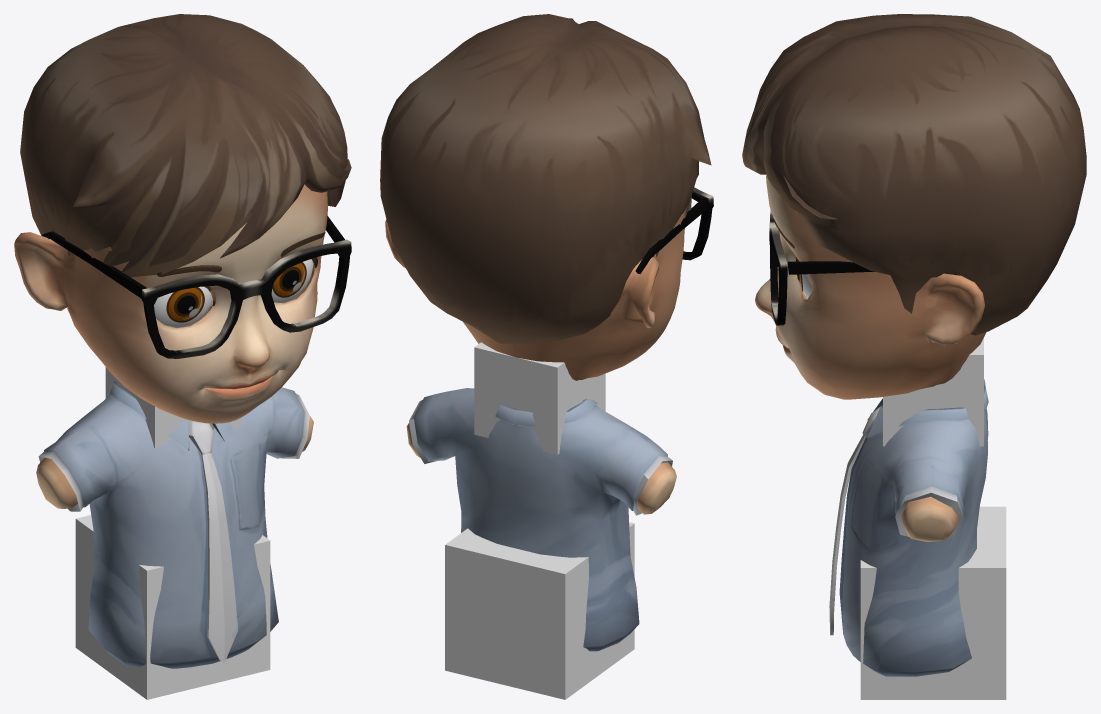
Rendered from Tman.FBX.
3 renders of one model, left to right at view 1: azimuth 30°, elevation 25°; view 2: azimuth 150°, elevation 25°; view 3: azimuth 270°, elevation 25°, orthographic. The views are drawn at different scales.
Parts seen in each view (by area): view 1: Tman_hair, Tman_body, Tman_face, boyBody001, Tman_glasses, Tman_eye003, mainPivot001, Tman_eye004; view 2: Tman_hair, Tman_body, boyBody001, Tman_face, mainPivot001, Tman_glasses; view 3: Tman_hair, Tman_body, Tman_face, boyBody001, mainPivot001, Tman_glasses.
Part boxes in pixels (box(x1,y1,x2,y2)): Tman_hair: box(20, 14, 351, 276); Tman_body: box(36, 381, 313, 668); Tman_face: box(14, 184, 327, 423); boyBody001: box(75, 515, 270, 699); Tman_glasses: box(42, 216, 351, 358); Tman_eye003: box(154, 286, 212, 327); mainPivot001: box(105, 367, 240, 448); Tman_eye004: box(271, 259, 313, 302); Tman_hair: box(380, 14, 711, 343); Tman_body: box(406, 388, 676, 651); boyBody001: box(445, 522, 634, 699); Tman_face: box(385, 210, 685, 380); mainPivot001: box(474, 342, 605, 454); Tman_glasses: box(635, 187, 713, 273); Tman_hair: box(742, 14, 1086, 335); Tman_body: box(829, 379, 988, 676); Tman_face: box(755, 175, 986, 399); boyBody001: box(860, 506, 1006, 699); mainPivot001: box(883, 338, 983, 446); Tman_glasses: box(769, 210, 957, 325).
Bounding box in the file's own units: 48.46 × 106 × 51.25.
